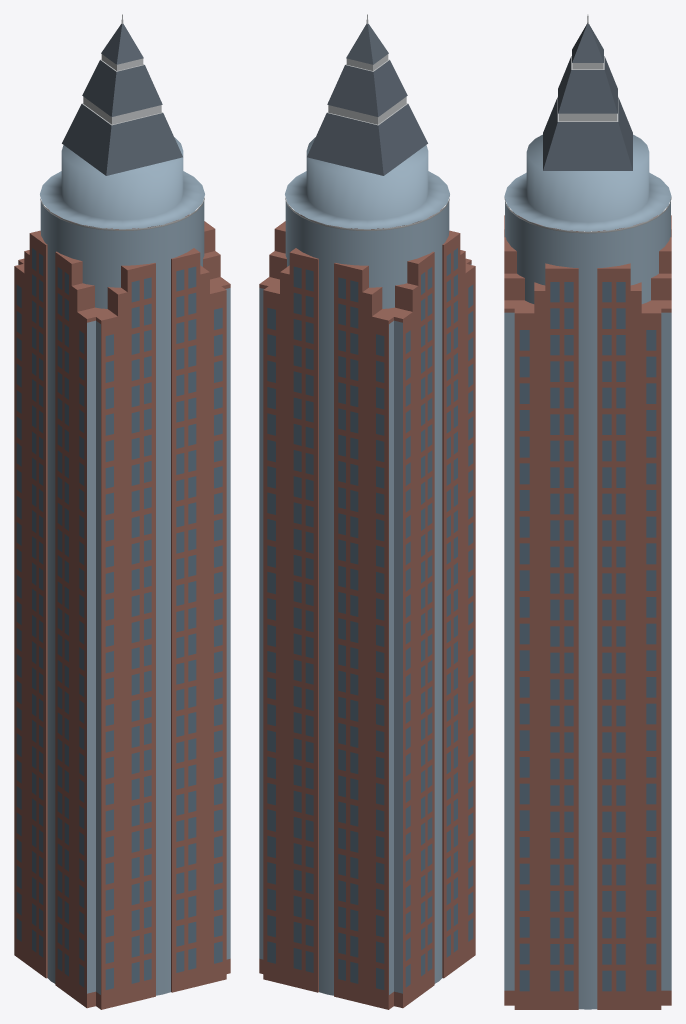
Rendered from frankfurt-messeturm.glb.
The picture shows the model from 3 angles, left to right: view 1: azimuth 30°, elevation 25°; view 2: azimuth 150°, elevation 25°; view 3: azimuth 270°, elevation 25°; orthographic projection.
Visible parts, largest first — view 1: Messeturm; view 2: Messeturm; view 3: Messeturm.
Boxes of the visible parts, bbox=[...] form: Messeturm: bbox=[14, 14, 230, 1009]; Messeturm: bbox=[259, 14, 475, 1009]; Messeturm: bbox=[504, 14, 671, 1009].
Bounding box in the file's own units: 41.08 × 259 × 41.08.
